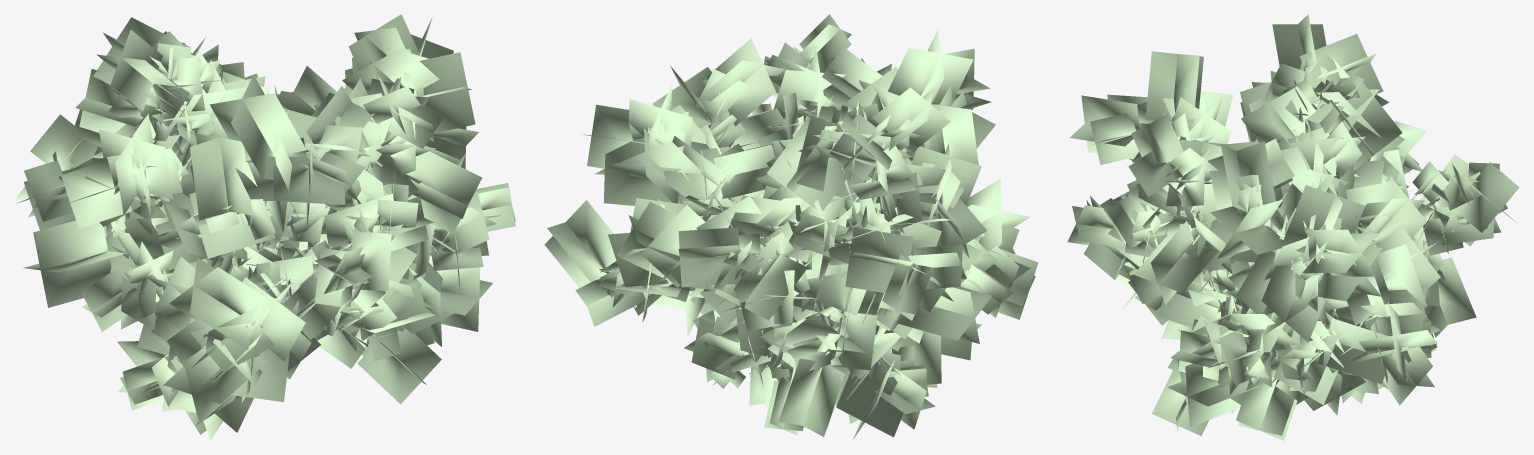
The model's file is bush_1_v0_lod1.glb.
3 renders of one model, left to right at view 1: azimuth 30°, elevation 25°; view 2: azimuth 150°, elevation 25°; view 3: azimuth 270°, elevation 25°, orthographic. The views are drawn at different scales.
Parts seen in each view (by area): view 1: Leaves; view 2: Leaves; view 3: Leaves.
Boxes of the visible parts, x1,y1,x2,y2 form: Leaves: [15, 14, 515, 440]; Leaves: [544, 14, 1038, 439]; Leaves: [1067, 14, 1519, 440].
Size of the model in its own units: 33.66 by 29.09 by 33.4.
